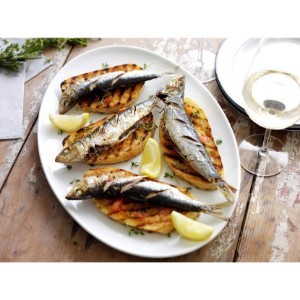sardine_brain food: (52, 70, 215, 221)
